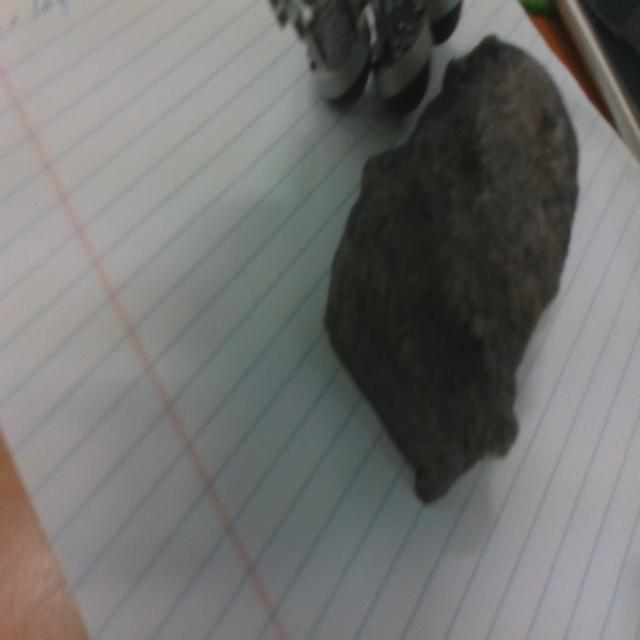stone: (323, 33, 579, 506)
